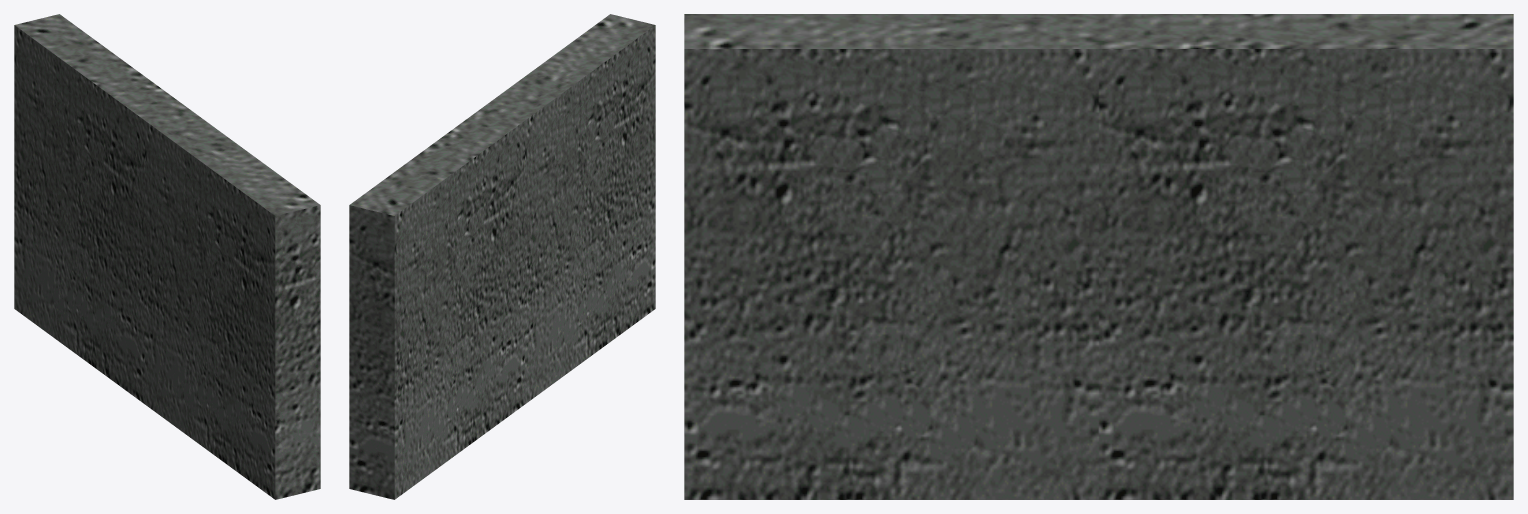
Rendered from SM_Wall_B.fbx.
3 renders of one model, left to right at view 1: azimuth 30°, elevation 25°; view 2: azimuth 150°, elevation 25°; view 3: azimuth 270°, elevation 25°, orthographic. The views are drawn at different scales.
Visible parts, largest first — view 1: SM_Wall_A; view 2: SM_Wall_A; view 3: SM_Wall_A.
Boxes of the visible parts, x1,y1,x2,y2 form: SM_Wall_A: [14, 14, 320, 499]; SM_Wall_A: [349, 14, 655, 499]; SM_Wall_A: [684, 14, 1513, 499].
Bounding box in the file's own units: 100 × 600 × 1000.
